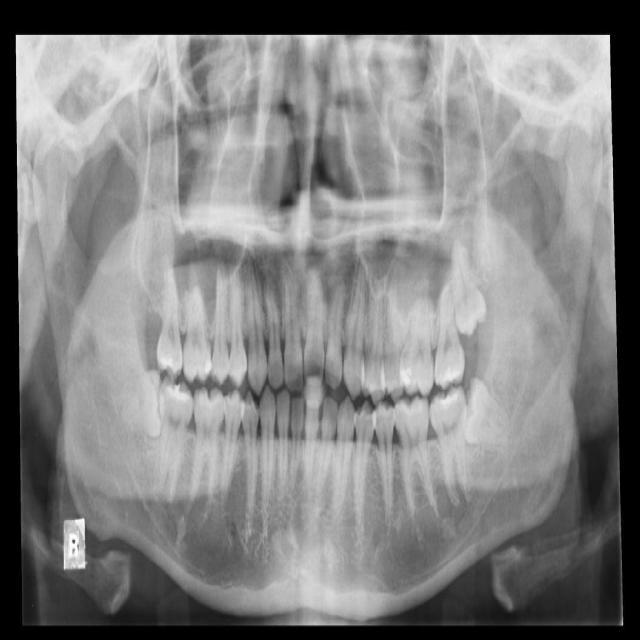52: (421, 381, 475, 435), (159, 373, 195, 426), (399, 355, 435, 398), (180, 341, 213, 387), (155, 332, 184, 382), (434, 345, 465, 391), (392, 395, 431, 431)
73: (616, 610, 630, 622)
BioHorizons Implant: (431, 265, 475, 393)
BioLife Implant: (450, 235, 489, 338)
Biomet 3i Implant: (456, 376, 518, 451)
Blue Sky Bio Implant: (427, 384, 473, 508)
Caries: (152, 258, 184, 381)
Implant: (156, 374, 196, 498)
Keystone Dental Implant: (114, 368, 171, 444)
